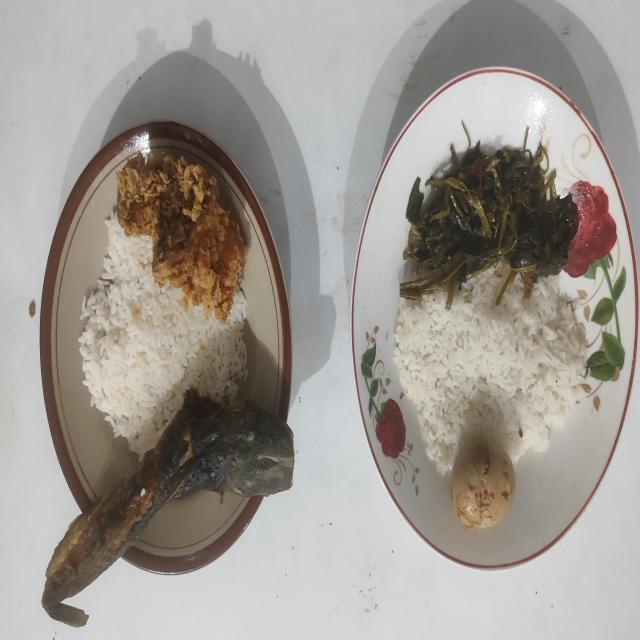nasi_putih: (78, 212, 248, 456), (394, 270, 586, 474)
tumis_kangkung: (400, 141, 579, 309)
